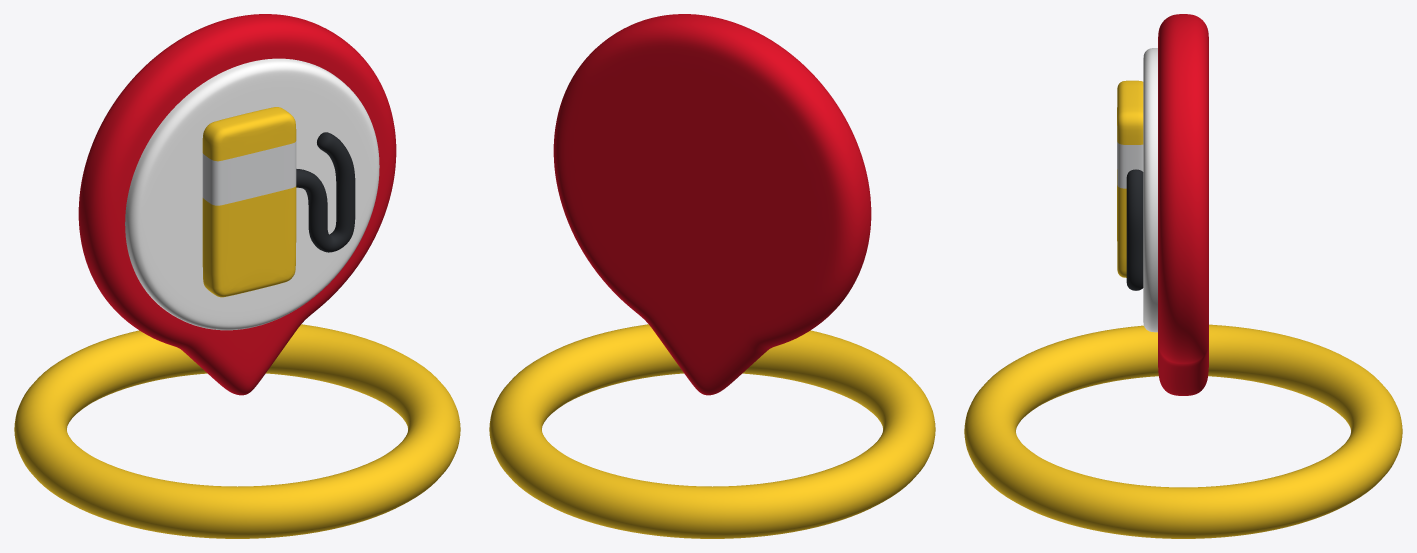
The picture shows the model from 3 angles, left to right: view 1: azimuth 30°, elevation 25°; view 2: azimuth 150°, elevation 25°; view 3: azimuth 270°, elevation 25°; orthographic projection.
Visible parts, largest first — view 1: Torus.020, Cylinder.010, Circle.022, Cube.012, Vert.004; view 2: Circle.022, Torus.020; view 3: Torus.020, Circle.022, Cylinder.010, Cube.012, Vert.004.
Part boxes in pixels (<box>): Torus.020: <box>14,324,460,538</box>; Cylinder.010: <box>125,58,379,330</box>; Circle.022: <box>78,14,396,395</box>; Cube.012: <box>202,107,296,297</box>; Vert.004: <box>296,132,355,252</box>; Circle.022: <box>553,14,871,395</box>; Torus.020: <box>489,324,935,538</box>; Torus.020: <box>964,324,1402,538</box>; Circle.022: <box>1158,14,1208,395</box>; Cylinder.010: <box>1143,48,1157,332</box>; Cube.012: <box>1117,80,1143,277</box>; Vert.004: <box>1126,169,1143,290</box>.
Bounding box in the file's own units: 429 × 459 × 429.
